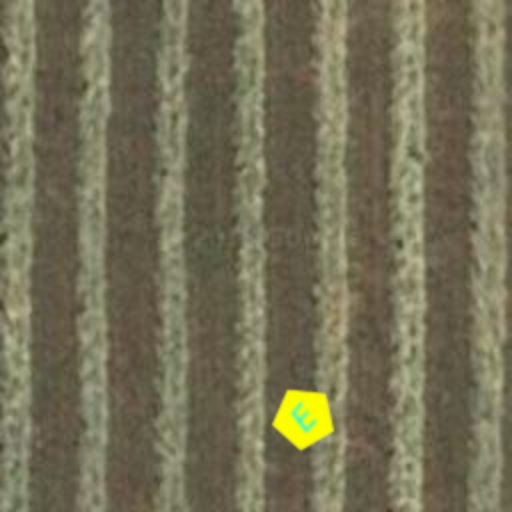pentagon: (256, 370, 352, 466)
